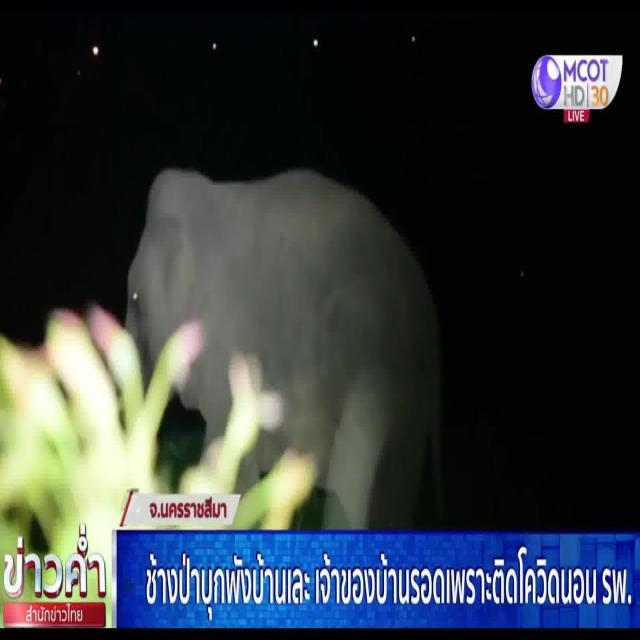Elephant: (124, 138, 446, 488)
